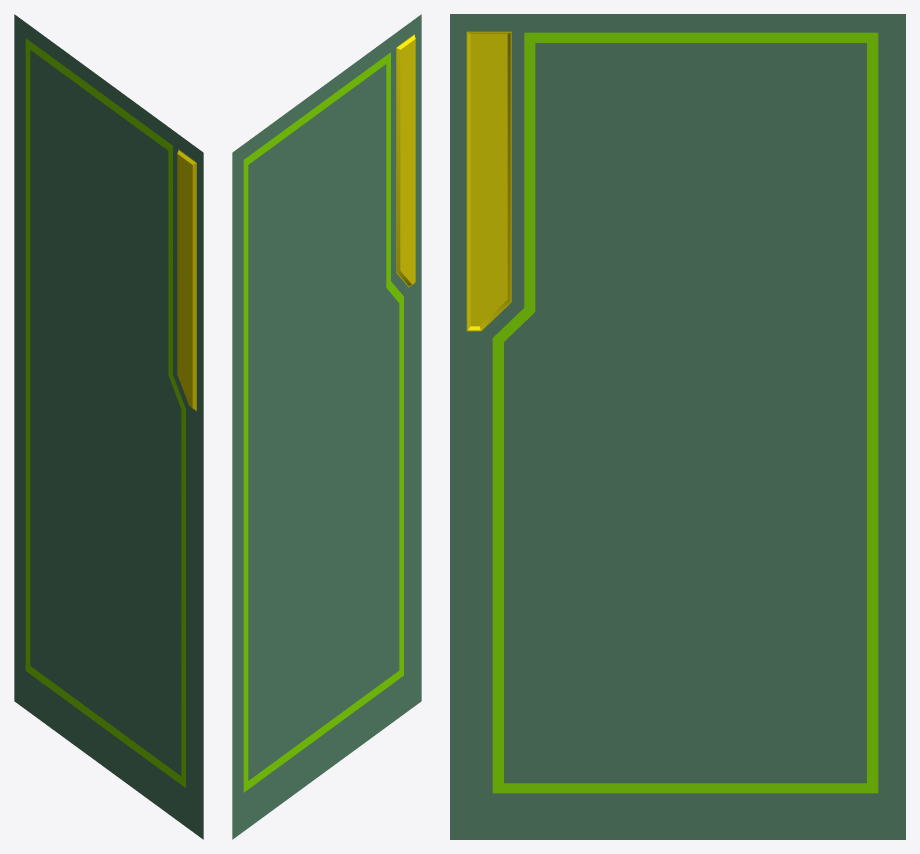
Rendered from Building_Wall_02d_snaps016.fbx.
The picture shows the model from 3 angles, left to right: view 1: azimuth 30°, elevation 25°; view 2: azimuth 150°, elevation 25°; view 3: azimuth 270°, elevation 25°; orthographic projection. The views are drawn at different scales.
Parts seen in each view (by area): view 1: Building_Wall_02d_snaps016_LOD0; view 2: Building_Wall_02d_snaps016_LOD0; view 3: Building_Wall_02d_snaps016_LOD0.
Boxes of the visible parts, box(x1,y1,x2,y2) form: Building_Wall_02d_snaps016_LOD0: box(14, 14, 203, 839); Building_Wall_02d_snaps016_LOD0: box(232, 14, 421, 839); Building_Wall_02d_snaps016_LOD0: box(450, 14, 905, 839).
Size of what is drawn, in the model's own units: 0.0231 by 6 by 3.
